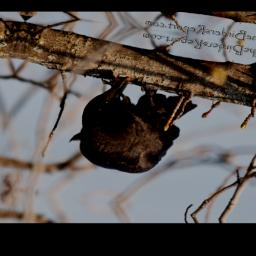Crow: (61, 69, 203, 182)
